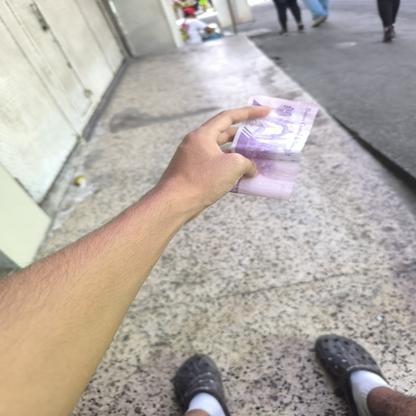one_hundred-back-vef: (228, 94, 320, 200)
